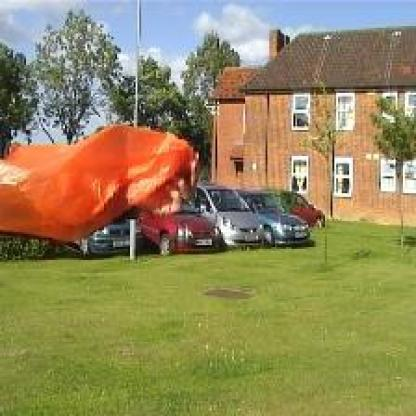other: (0, 123, 195, 245)
